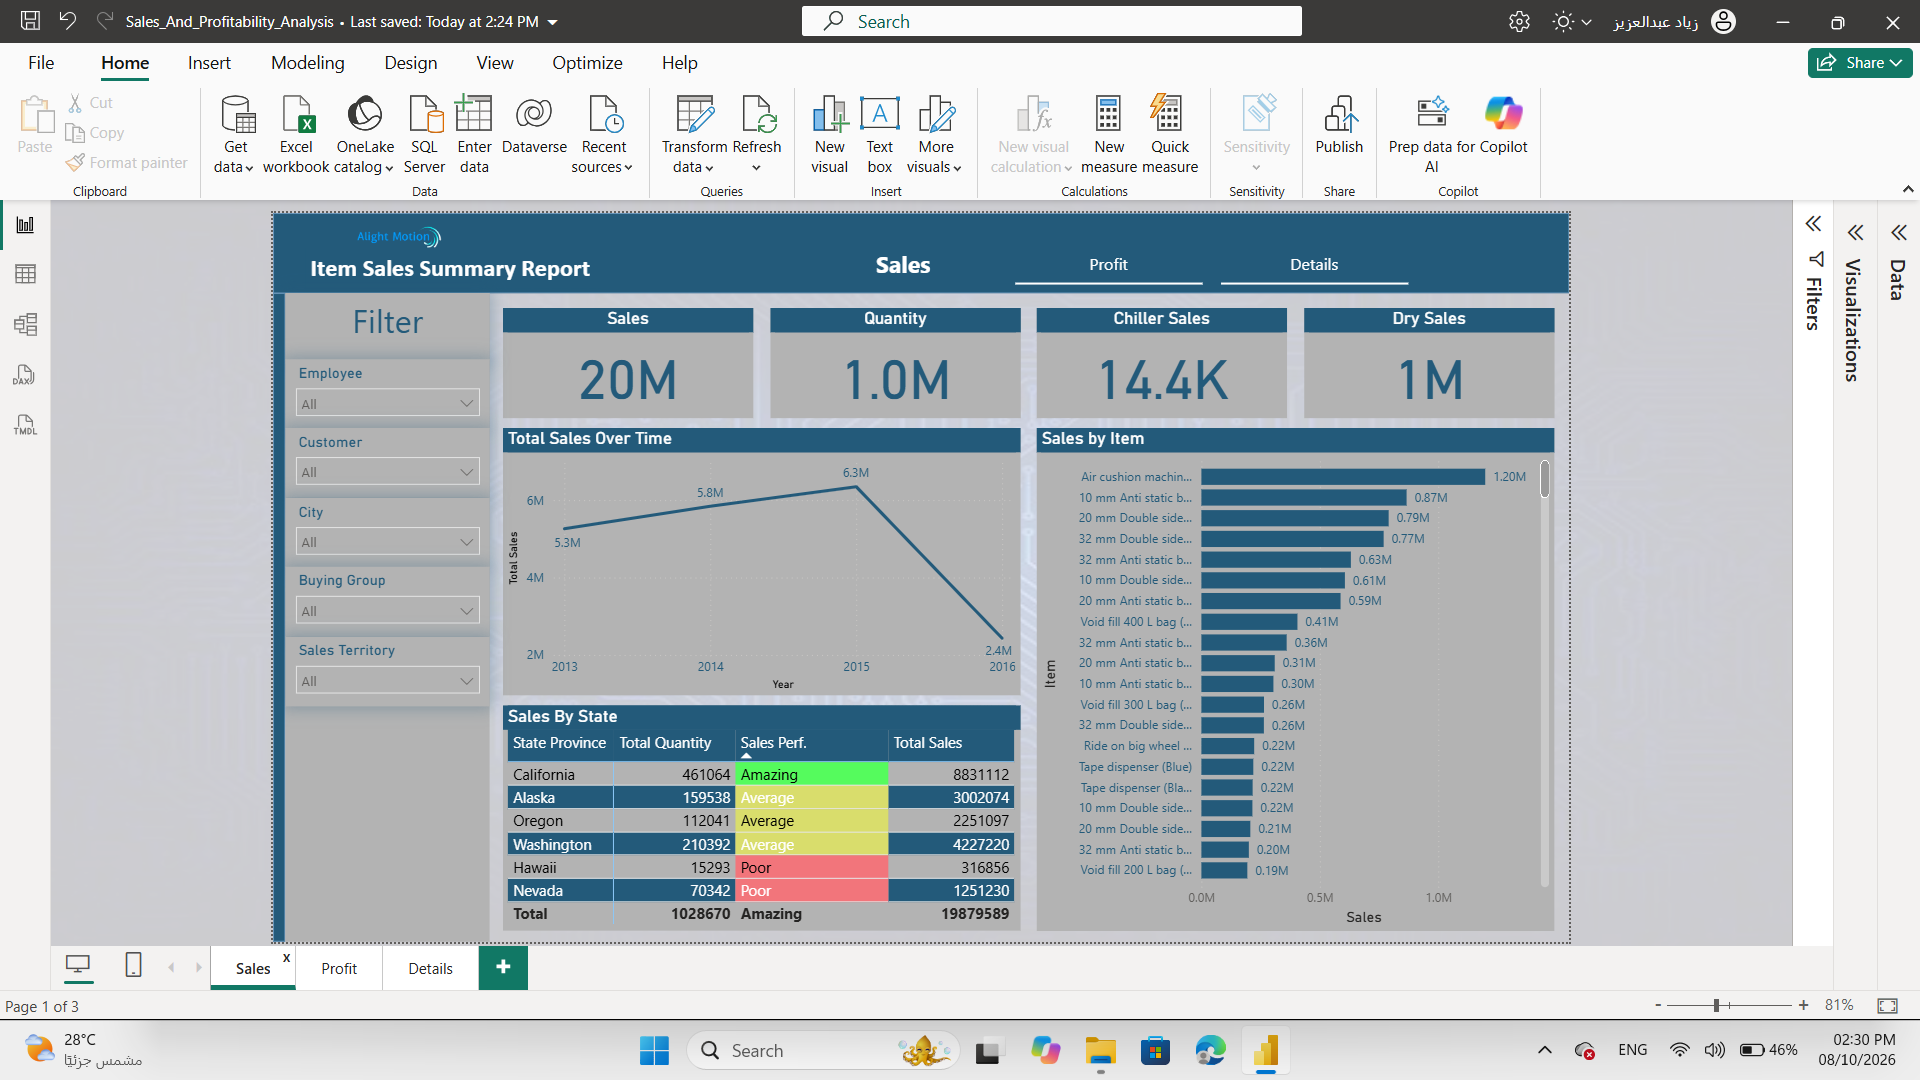

What the dashboard file says about the page in this screenshot:
{"tool":"powerbi","page":{"name":"Sales","canvas":[1280,720],"ordinal":0},"visuals":[{"type":"shape","box":[0,0,1280.3,79.5],"z":0},{"type":"shape","box":[0,79.5,12.2,640.8],"z":1000},{"type":"shape","box":[12.2,79.5,201.8,640.8],"z":2000},{"type":"image","box":[6.1,0,237.2,47.7],"z":3000},{"type":"textbox","box":[31.8,34.2,292.3,40.4],"z":4000},{"type":"card","title":"Sales","fields":{"Values":["Sum(FactSale.Total Excluding Tax)"]},"box":[227.4,94.2,247,108.8],"z":5000},{"type":"card","title":"Dry Sales","fields":{"Values":["Sum(FactSale.Total Dry Items)"]},"box":[1018.6,94.2,247,108.8],"z":6000},{"type":"card","title":"Chiller Sales","fields":{"Values":["Sum(FactSale.Total Chiller Items)"]},"box":[754.5,94.2,247,108.8],"z":7000},{"type":"card","title":"Quantity","fields":{"Values":["Sum(FactSale.Quantity)"]},"box":[491.6,94.2,247,108.8],"z":8000},{"type":"textbox","box":[12.2,79.5,201.8,69.7],"z":9000},{"type":"lineChart","title":"Total Sales Over Time","fields":{"Category":["DimDate.Date.Variation.Date Hierarchy.Year","DimDate.Date.Variation.Date Hierarchy.Quarter","DimDate.Date.Variation.Date Hierarchy.Month","DimDate.Date.Variation.Date Hierarchy.Day"],"Y":["Sum(FactSale.Total Excluding Tax)"]},"box":[227.4,212.8,511.1,264.1],"z":10000},{"type":"barChart","fields":{"Category":["DimStockItem.Stock Item"],"Y":["Sum(FactSale.Total Excluding Tax)"]},"box":[754.5,212.8,511.1,496.5],"z":11000},{"type":"pivotTable","title":"Sales By State","fields":{"Rows":["DimCity.State Province"],"Values":["Sum(FactSale.Quantity)","FactSale.Sales Perf.","Sum(FactSale.Total Excluding Tax)"]},"box":[227.4,486.7,511.1,222.6],"z":12000},{"type":"slicer","fields":{"Values":["DimEmployee.Employee"]},"box":[12.2,144.3,201.8,68.5],"z":13000},{"type":"slicer","fields":{"Values":["DimCustomer.Customer"]},"box":[12.3,212.7,201.8,68.5],"z":14000},{"type":"slicer","fields":{"Values":["DimCity.City"]},"box":[12.3,281.3,201.8,68.5],"z":15000},{"type":"slicer","fields":{"Values":["DimCustomer.Buying Group"]},"box":[12.3,349.9,201.8,68.5],"z":16000},{"type":"slicer","fields":{"Values":["DimCity.Sales Territory"]},"box":[12.3,418.5,201.8,68.5],"z":17000},{"type":"pageNavigator","box":[525.8,24.5,600.4,50.1],"z":18000}]}

Visuals, with their boxes on the page's 1280x720 design canvas (x1, y1, x2, y2). These are canvas units, not pixel positions in the 1920x1080 screenshot, which may show the page scaled, cropped or inside an application window:
shape: box(0, 0, 1280, 80)
shape: box(0, 80, 12, 720)
shape: box(12, 80, 214, 720)
image: box(6, 0, 243, 48)
textbox: box(32, 34, 324, 75)
"Sales" card: box(227, 94, 474, 203)
"Dry Sales" card: box(1019, 94, 1266, 203)
"Chiller Sales" card: box(754, 94, 1002, 203)
"Quantity" card: box(492, 94, 739, 203)
textbox: box(12, 80, 214, 149)
"Total Sales Over Time" lineChart: box(227, 213, 738, 477)
barChart - DimStockItem.Stock Item x Sum(FactSale.Total Excluding Tax): box(754, 213, 1266, 709)
"Sales By State" pivotTable: box(227, 487, 738, 709)
slicer - DimEmployee.Employee: box(12, 144, 214, 213)
slicer - DimCustomer.Customer: box(12, 213, 214, 281)
slicer - DimCity.City: box(12, 281, 214, 350)
slicer - DimCustomer.Buying Group: box(12, 350, 214, 418)
slicer - DimCity.Sales Territory: box(12, 418, 214, 487)
pageNavigator: box(526, 24, 1126, 75)
